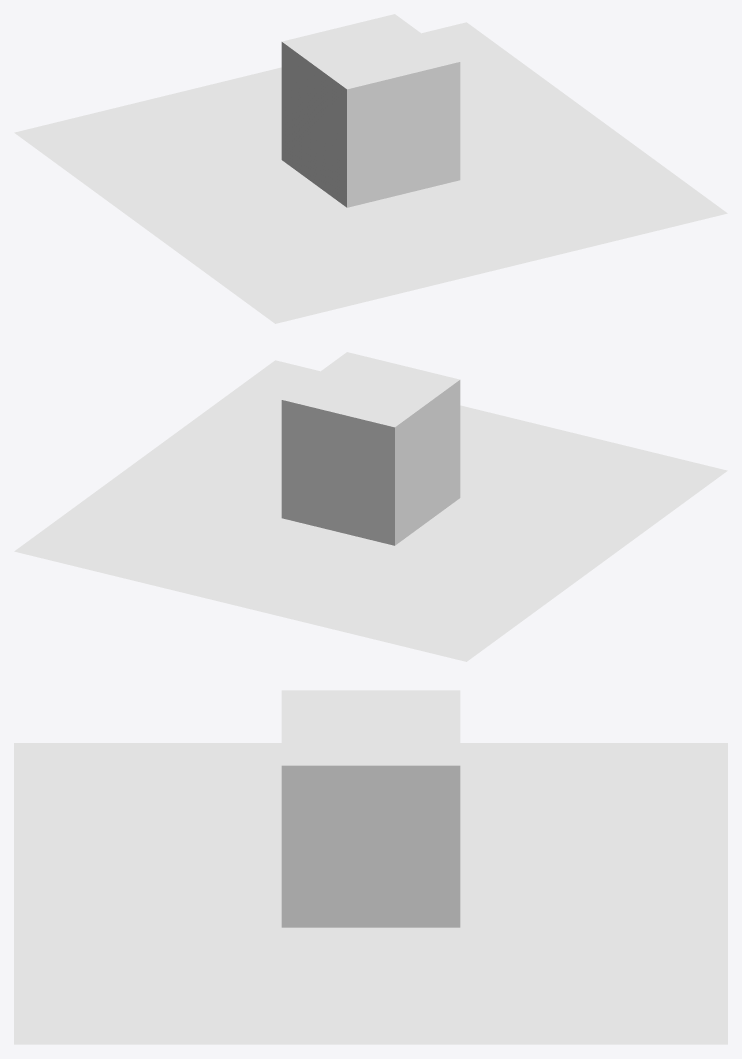
The model's file is Checker-ASTC.glb.
The picture shows the model from 3 angles, top to bottom: view 1: azimuth 30°, elevation 25°; view 2: azimuth 150°, elevation 25°; view 3: azimuth 270°, elevation 25°; orthographic projection. The views are drawn at different scales.
Size of the model in its own units: 8 by 2.05 by 8.
Materials: 1 (1 with a texture image).
